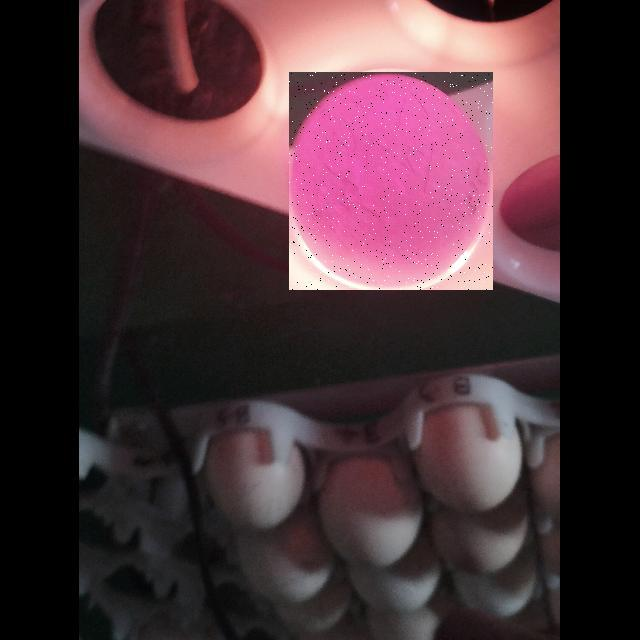Infertile: (289, 72, 493, 290)
